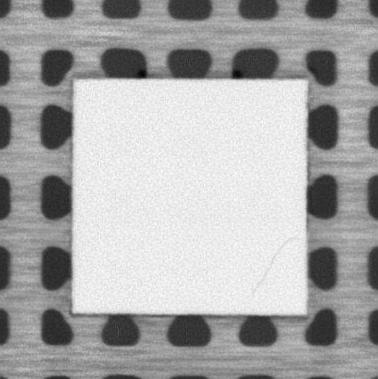DIE_CRACK: (253, 235, 299, 300)
